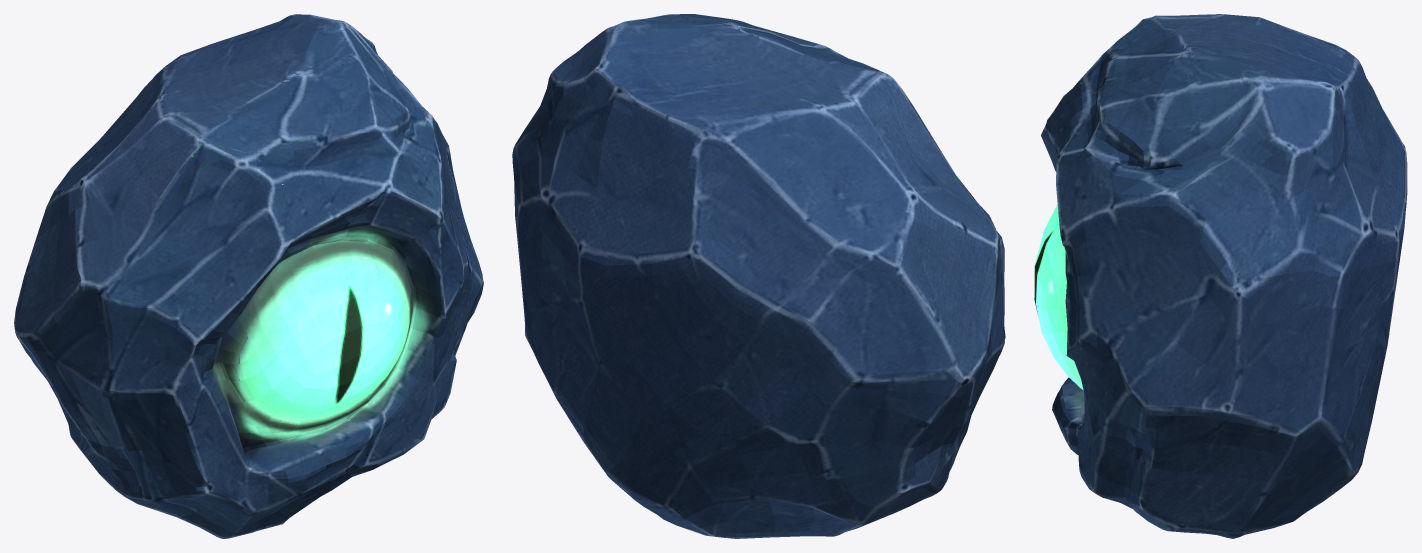
File: tarek_eye_rock.glb
The picture shows the model from 3 angles, left to right: view 1: azimuth 30°, elevation 25°; view 2: azimuth 150°, elevation 25°; view 3: azimuth 270°, elevation 25°; orthographic projection. The views are drawn at different scales.
Visible parts, largest first — view 1: eye_rock; view 2: eye_rock; view 3: eye_rock.
Boxes of the visible parts, <box> form: eye_rock: <box>14,14,483,538</box>; eye_rock: <box>512,14,1005,538</box>; eye_rock: <box>1034,14,1407,538</box>.
Bounding box in the file's own units: 0.1662 × 0.17 × 0.1146.
1 material, 1 textured.
